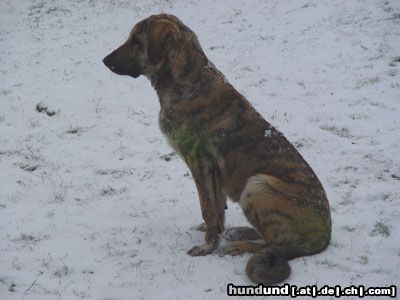kangal: (102, 12, 332, 286)
